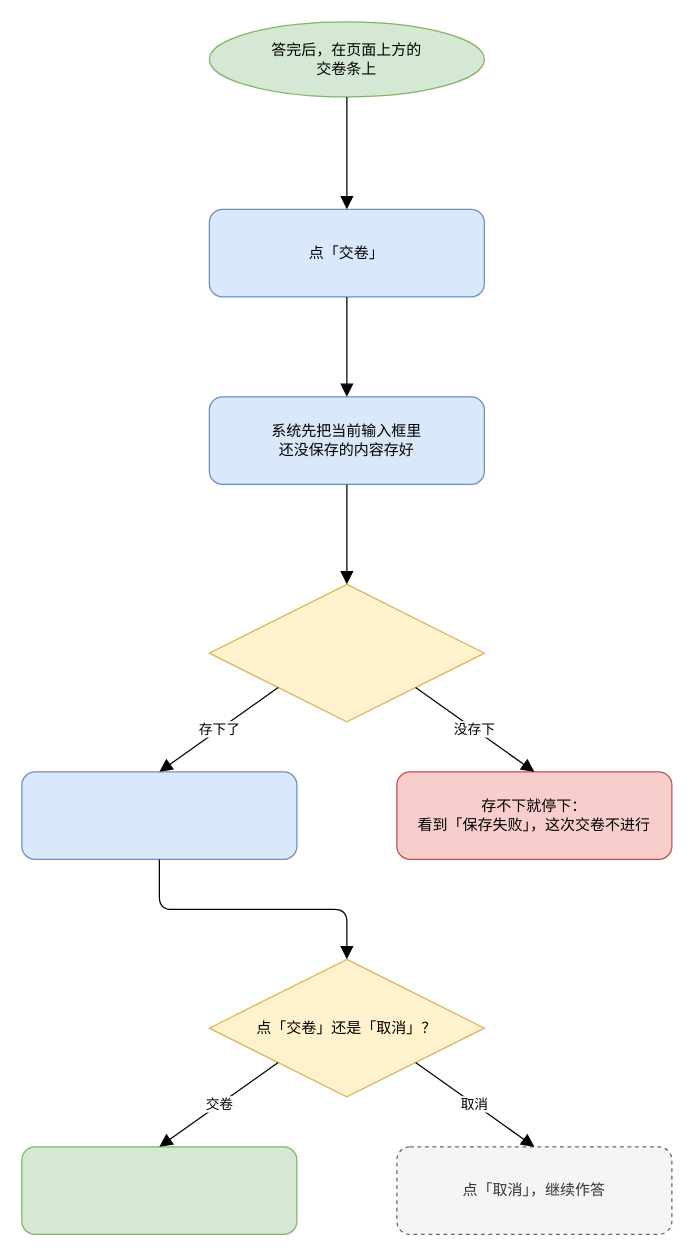
Some shapes in this 694 by 1256 pixel diagram are drawn without their labels. Each missing label, with the centre of its shape:
"存下了吗？" belongs at [346,652].
"弹出确认「交卷？」 并告诉你还有几题没答" belongs at [159,815].
"看到「已交卷，提交了 N 题作答」， 页面变成「已于 … 交卷」，作答锁定" belongs at [159,1190].
